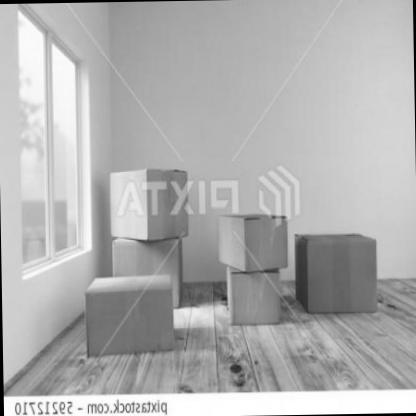box: (74, 265, 180, 381), (289, 228, 383, 333), (100, 161, 193, 247), (101, 228, 186, 317), (212, 203, 291, 278), (219, 262, 284, 337)
